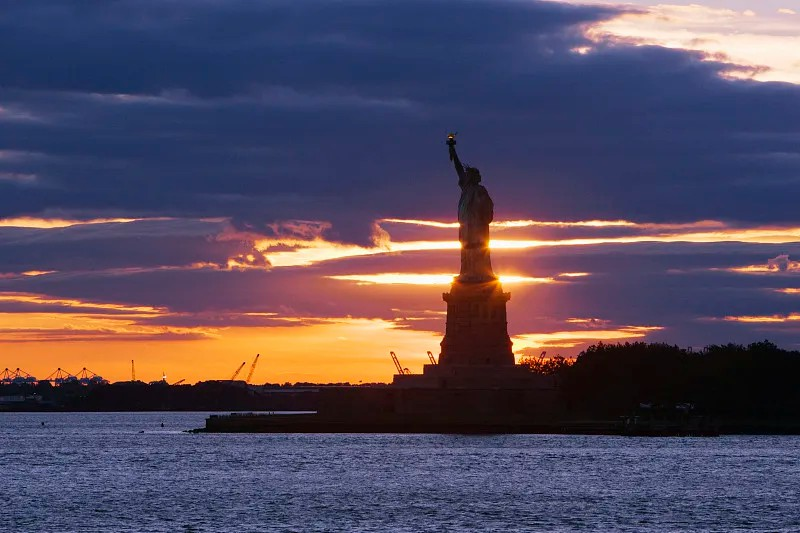SL: (438, 133, 516, 365)
